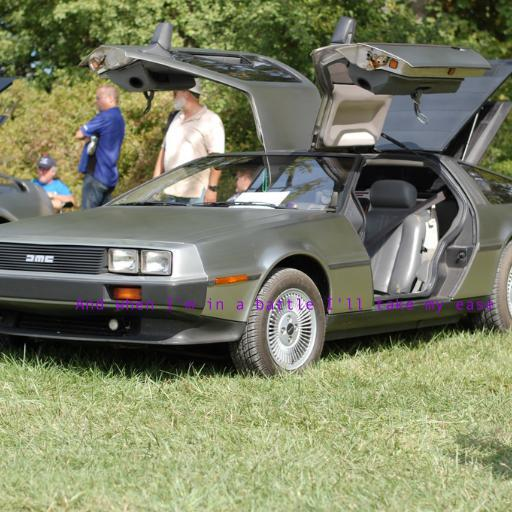Andale Mono: (75, 298, 495, 313)
